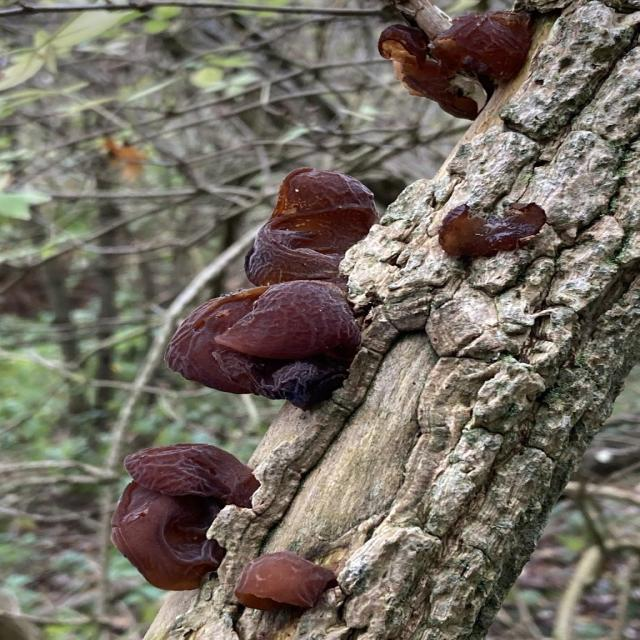Matang: (160, 275, 372, 410), (372, 6, 548, 122), (237, 162, 384, 289), (110, 476, 230, 592), (121, 436, 272, 512), (436, 193, 554, 260), (232, 546, 344, 612)
